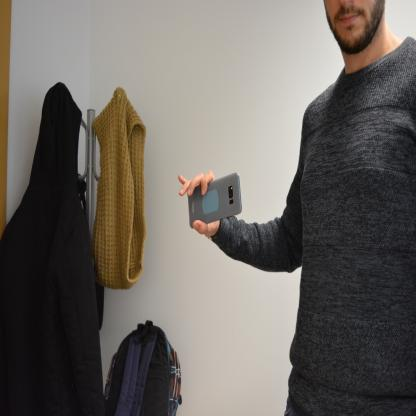smartphone: (187, 171, 243, 229)
